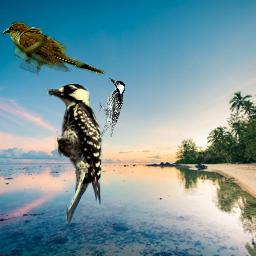Cuckoo: (2, 21, 106, 75)
Woodpecker: (45, 83, 105, 226), (99, 77, 125, 137)
